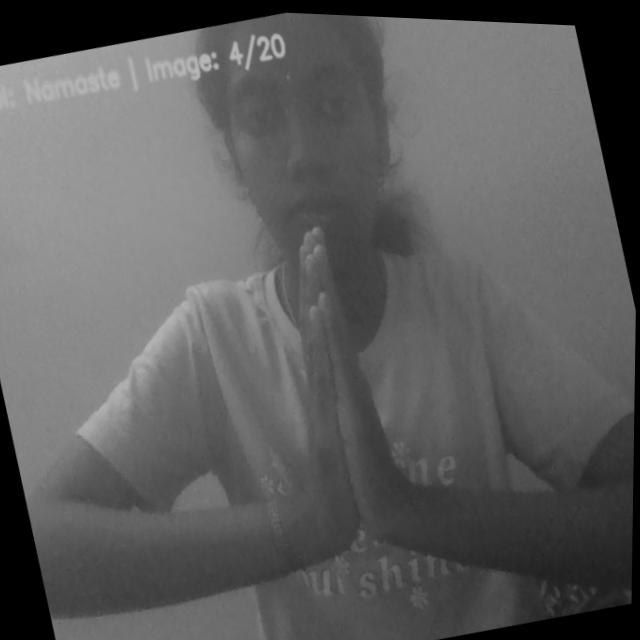Namaste: (258, 209, 424, 546)
